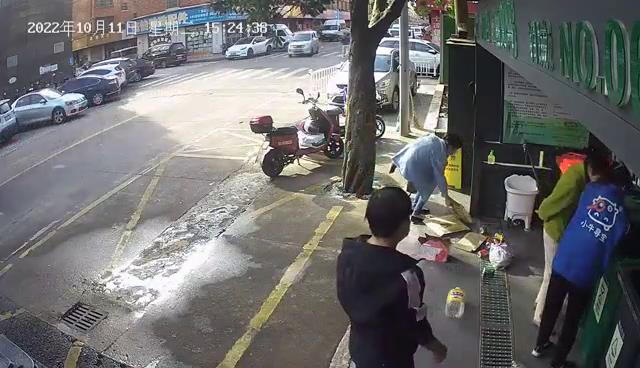garbage-bag: (487, 231, 518, 270)
lvzhipin: (482, 265, 495, 278), (477, 249, 489, 259)
person: (335, 185, 449, 368), (532, 153, 612, 329)
suliaozhipin: (444, 285, 467, 320)
worker: (530, 161, 634, 368), (387, 133, 464, 214)
zhizhipin: (422, 213, 472, 236), (416, 232, 449, 264), (446, 195, 474, 225), (452, 231, 487, 253)
